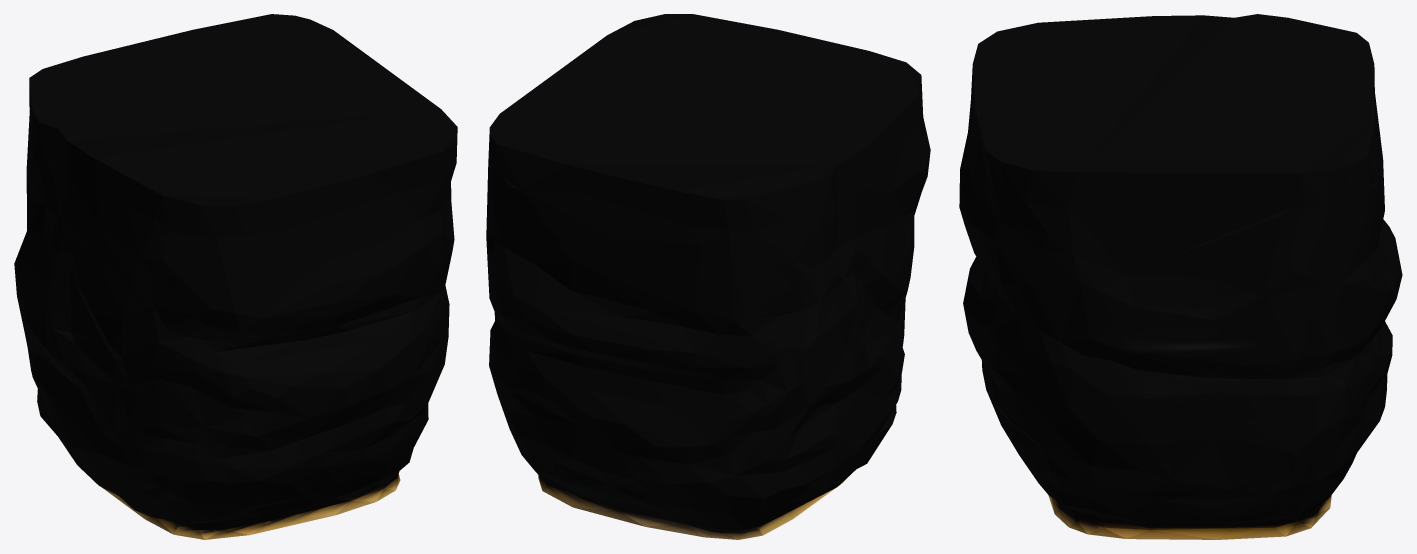
File: RightLowerArm.glb
The picture shows the model from 3 angles, left to right: view 1: azimuth 30°, elevation 25°; view 2: azimuth 150°, elevation 25°; view 3: azimuth 270°, elevation 25°; orthographic projection. The views are drawn at different scales.
Visible parts, largest first — view 1: RightLowerArm; view 2: RightLowerArm; view 3: RightLowerArm.
Part boxes in pixels (left/top/right/bottom): RightLowerArm: left=14, top=14, right=457, bottom=539; RightLowerArm: left=486, top=14, right=930, bottom=539; RightLowerArm: left=959, top=14, right=1402, bottom=539.
Bounding box in the file's own units: 1.16 × 1.21 × 1.28.
1 material, 1 textured.
